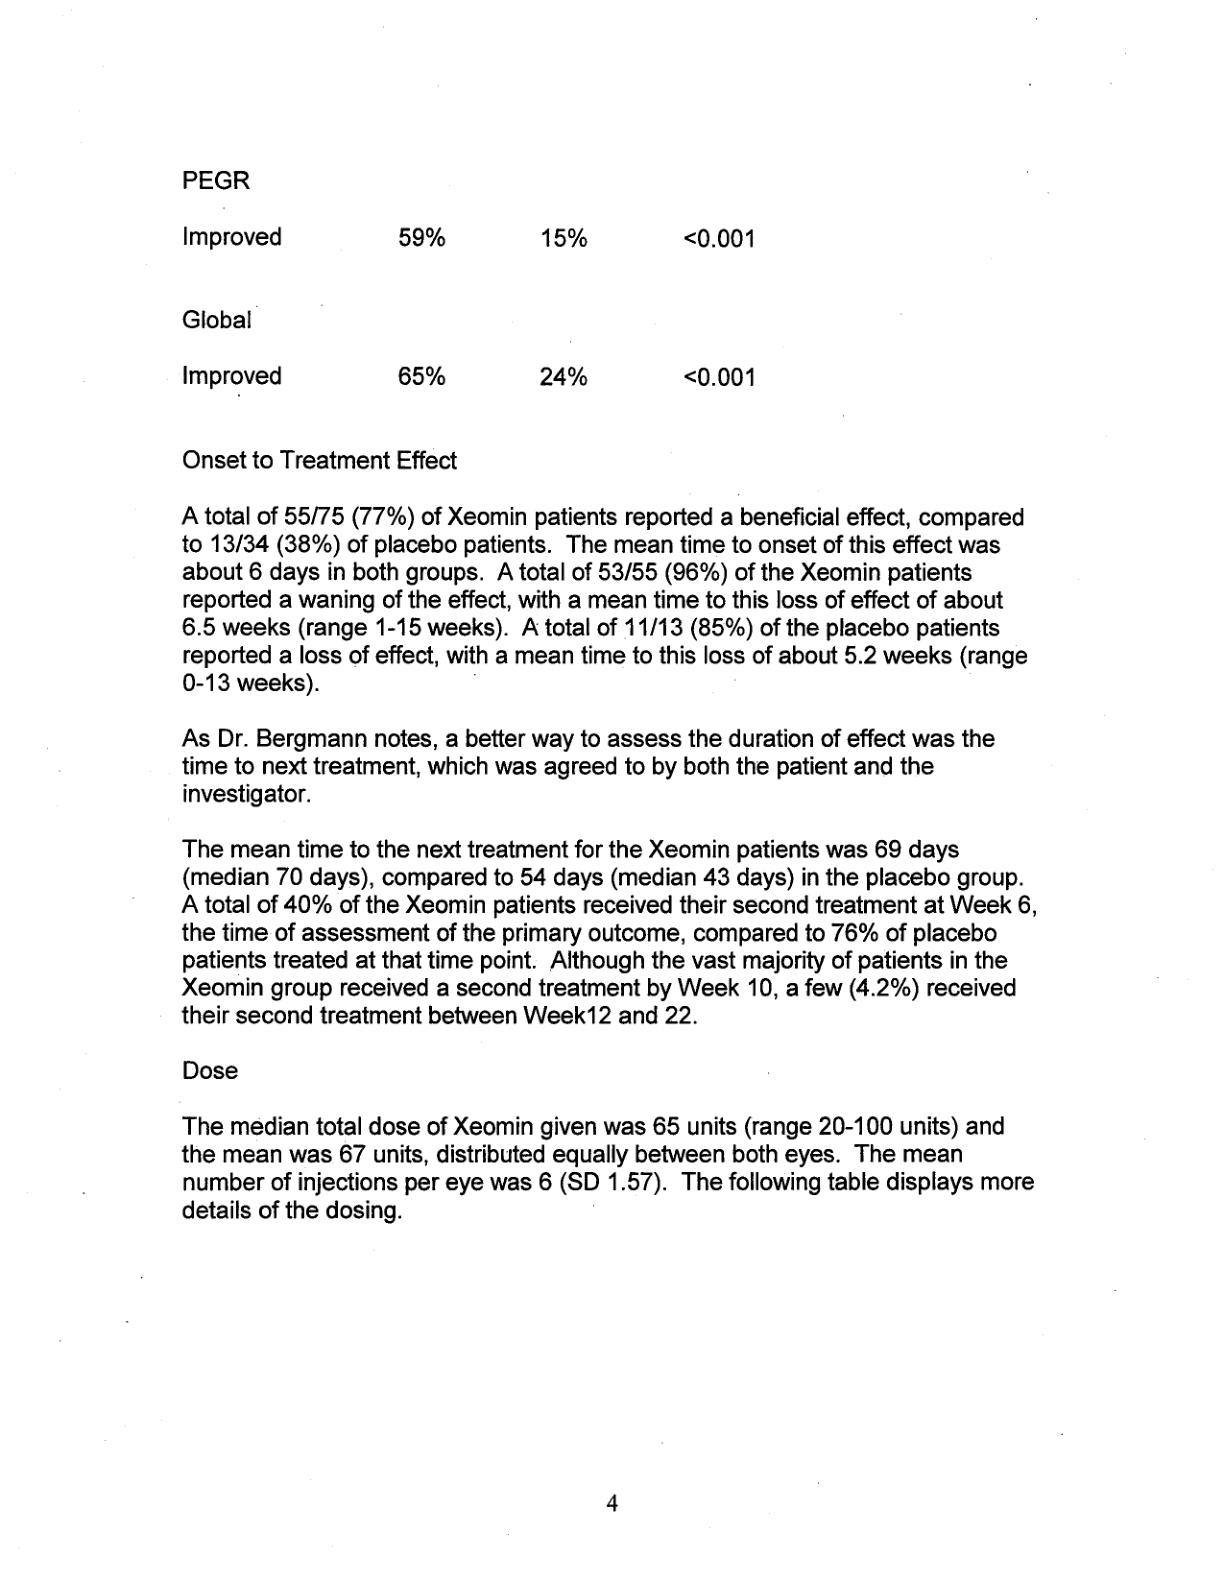nolines: (175, 159, 765, 390)
